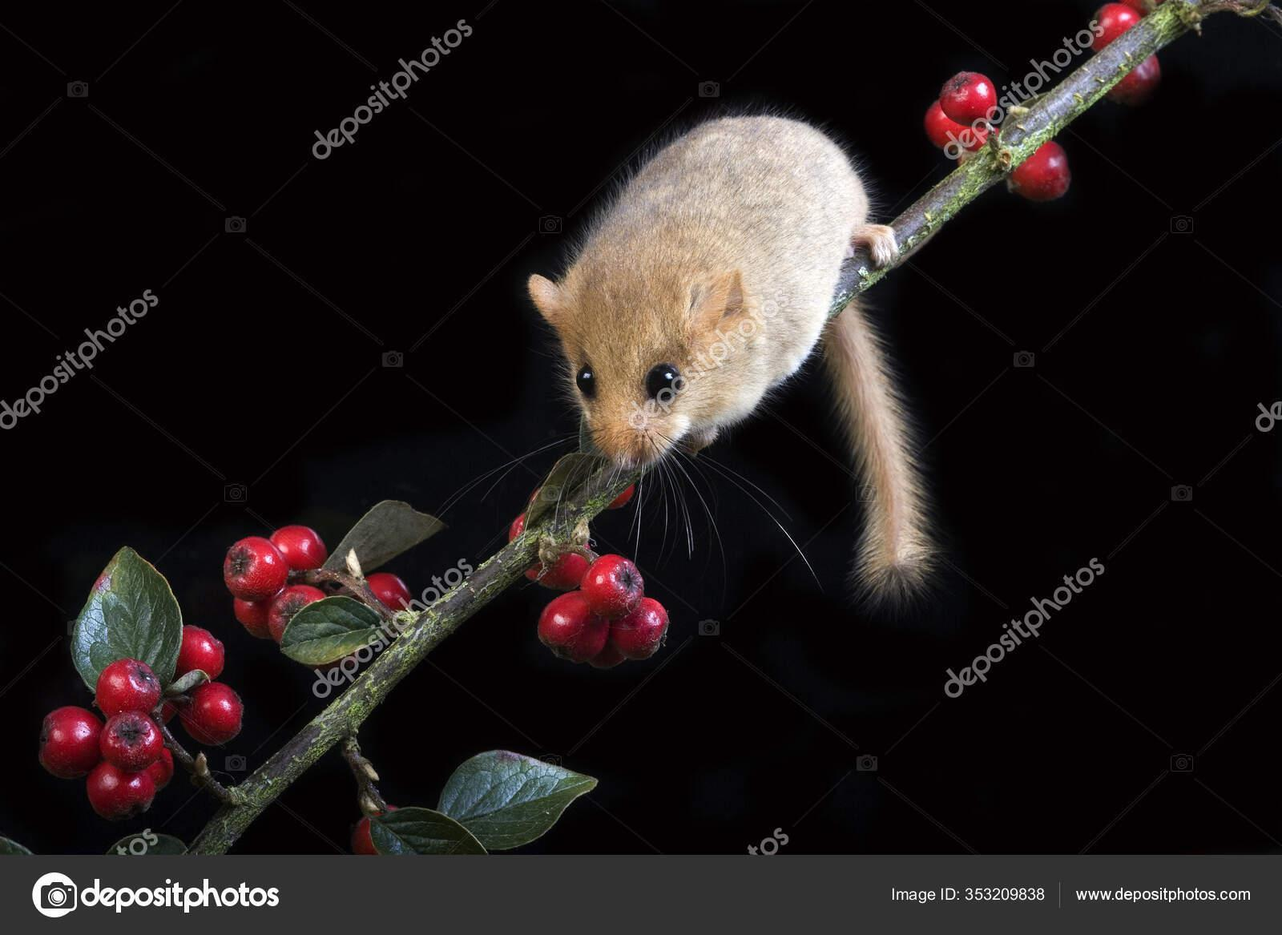rat: (526, 118, 931, 592)
